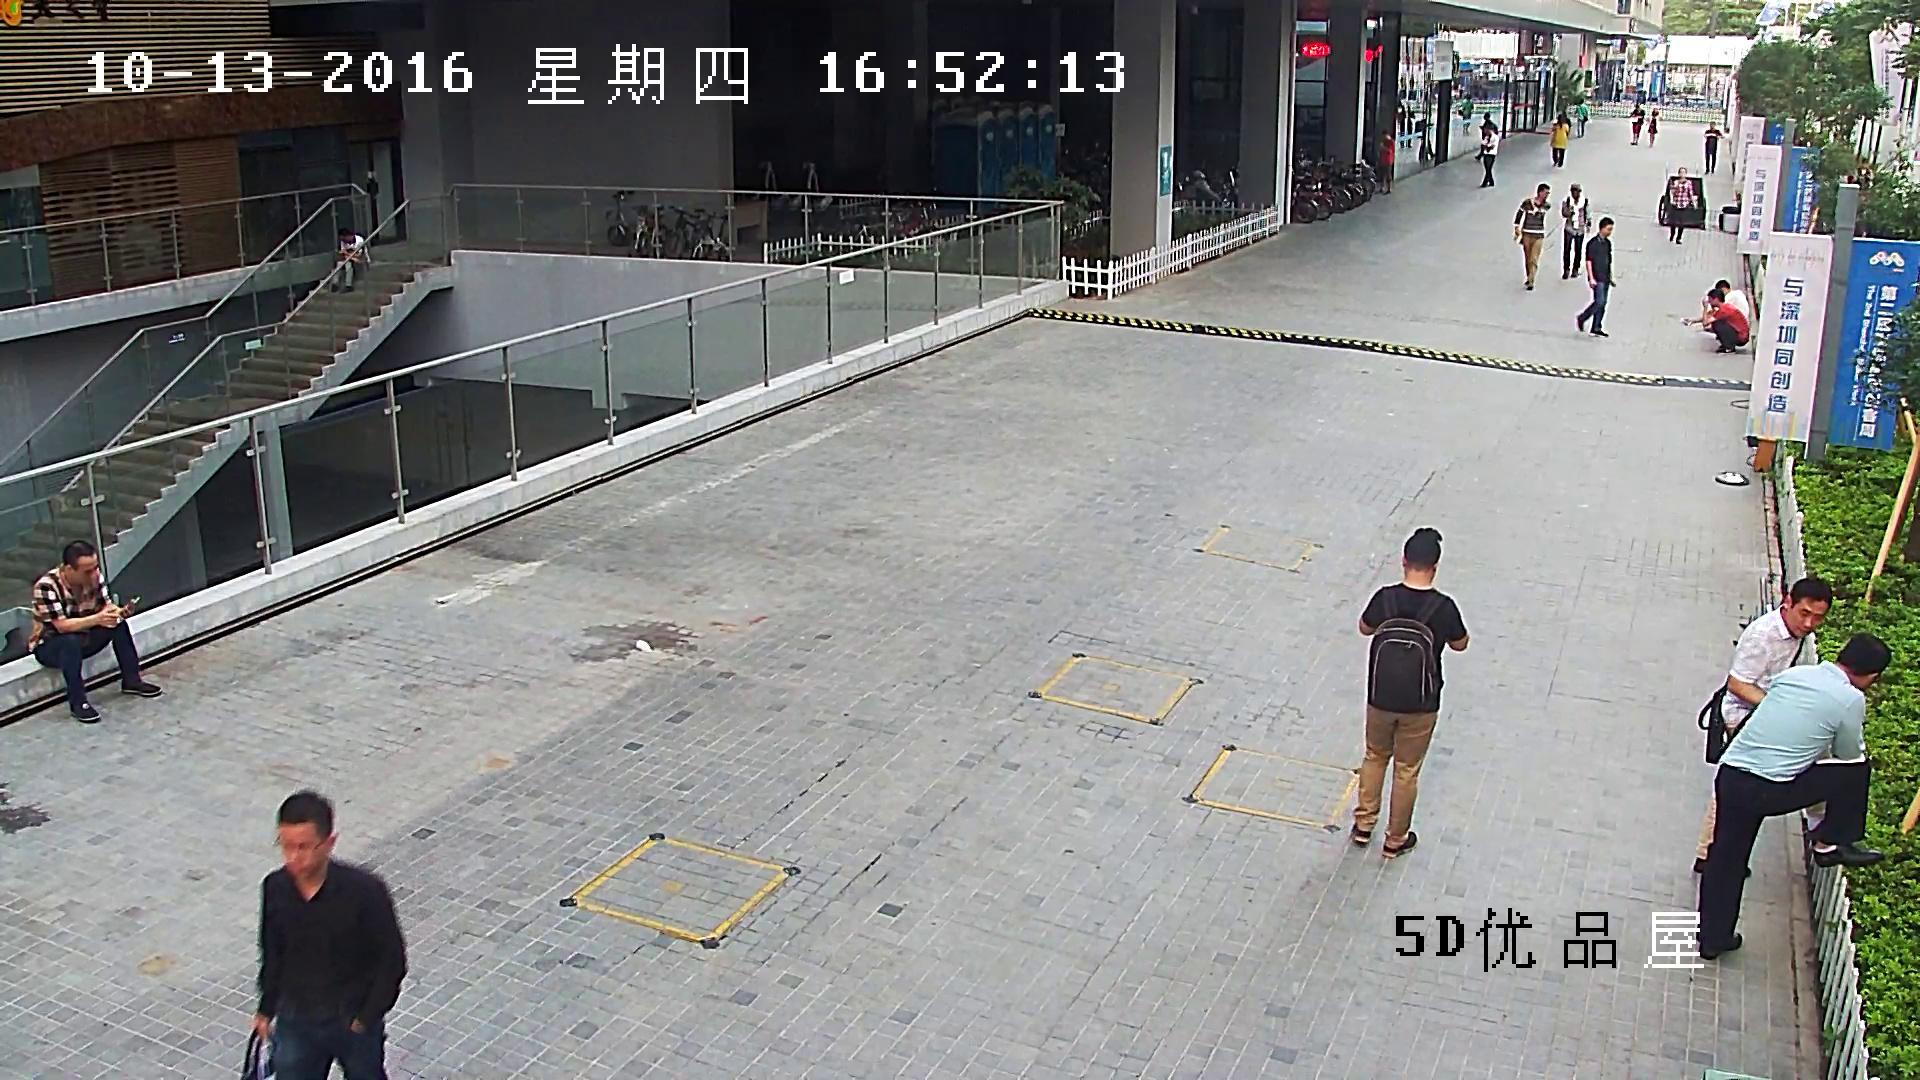person: (1696, 632, 1891, 959), (241, 790, 406, 1080), (1694, 577, 1832, 876), (1351, 527, 1468, 857), (29, 539, 160, 721), (1576, 217, 1616, 337), (1681, 288, 1749, 353), (1512, 183, 1549, 290), (1562, 183, 1591, 279), (331, 228, 370, 292), (1710, 280, 1748, 340), (1669, 167, 1693, 244), (1478, 124, 1498, 187), (1375, 129, 1394, 195), (1549, 113, 1569, 167), (1704, 121, 1724, 173), (1475, 111, 1497, 158), (1630, 104, 1644, 144), (1574, 98, 1589, 137), (1461, 94, 1473, 135), (1647, 109, 1659, 146)
